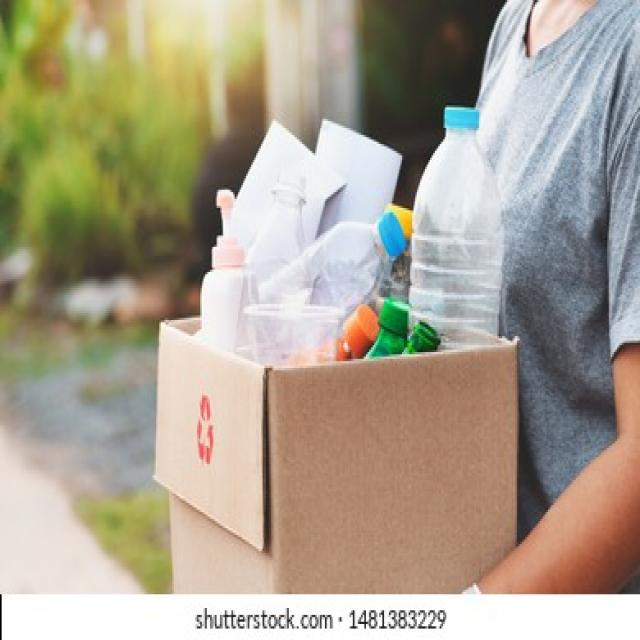plastic: (268, 174, 396, 331), (422, 103, 502, 345)
